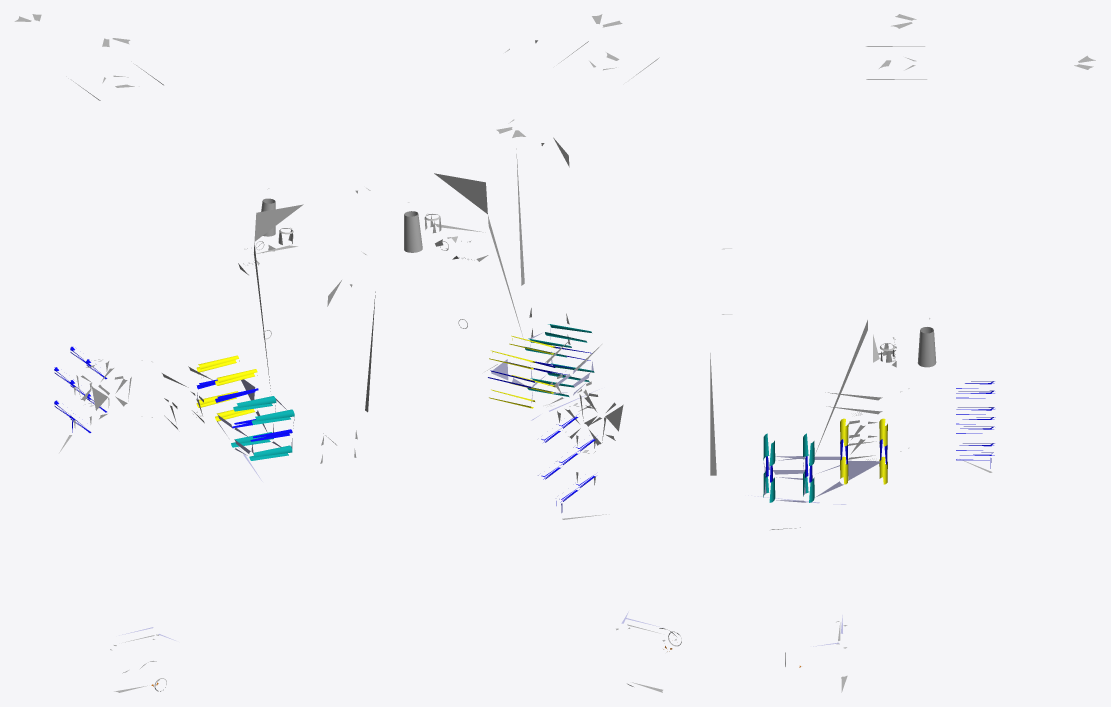
The picture shows the model from 3 angles, left to right: view 1: azimuth 30°, elevation 25°; view 2: azimuth 150°, elevation 25°; view 3: azimuth 270°, elevation 25°; orthographic projection. The views are drawn at different scales.
Parts seen in each view (by area): view 1: F19721000063102000115_001_zb_ub_stiftzieher_15_fa (×5); view 2: F19721000063102000115_001_zb_ub_stiftzieher_15_fa (×5); view 3: F19721000063102000115_001_zb_ub_stiftzieher_15_fa (×5).
Boxes of the visible parts, left/top/right/bottom form: F19721000063102000115_001_zb_ub_stiftzieher_15_fa (×5): left=14, top=14, right=375, bottom=692; F19721000063102000115_001_zb_ub_stiftzieher_15_fa (×5): left=404, top=14, right=681, bottom=692; F19721000063102000115_001_zb_ub_stiftzieher_15_fa (×5): left=710, top=14, right=1095, bottom=692.
Size of the model in its own units: 196 by 294 by 561.
